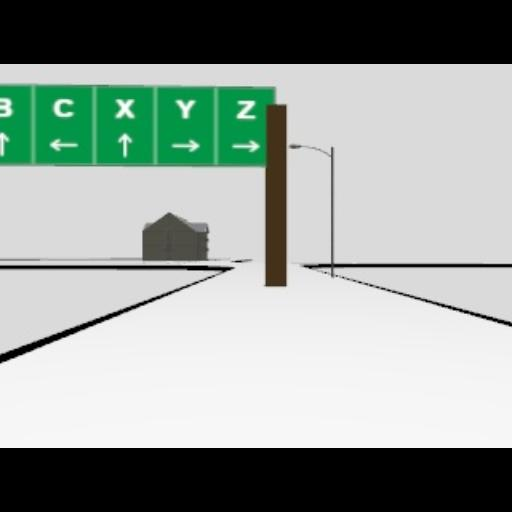B: (0, 96, 12, 116)
C: (52, 98, 74, 116)
Left: (48, 138, 80, 150)
Right: (170, 138, 200, 152), (232, 140, 260, 152)
Straight: (117, 131, 133, 157), (0, 129, 10, 155)
X: (114, 98, 136, 118)
Y: (174, 100, 196, 118)
Z: (236, 100, 256, 118)
